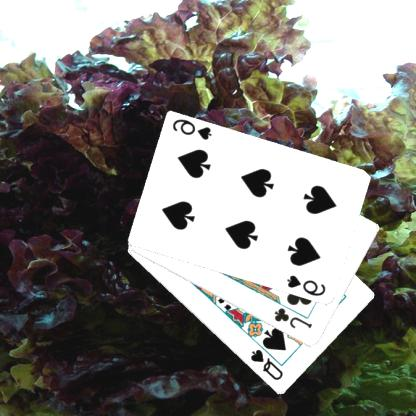6S: (172, 117, 216, 142), (286, 273, 329, 298)
JC: (273, 305, 315, 330)
QS: (250, 347, 286, 382)
